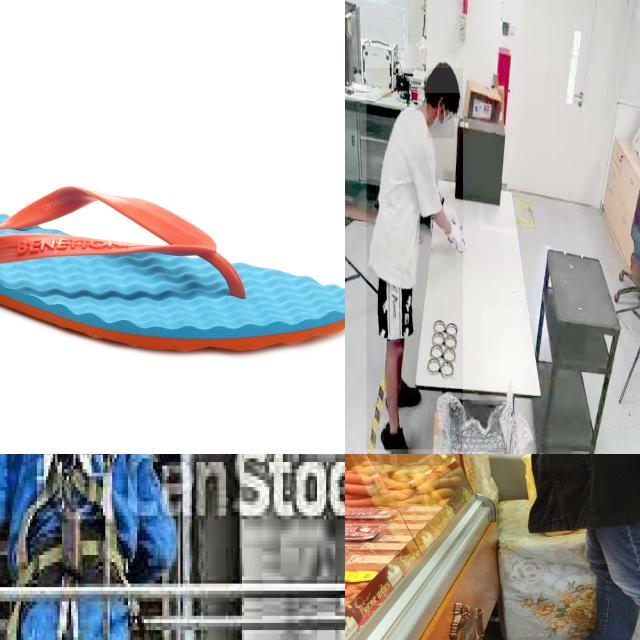Harness: (15, 454, 113, 573)
Sandals: (0, 184, 345, 354)
face_mask: (427, 98, 455, 138)
hand_glove: (442, 202, 462, 254)
head_nohelmet: (424, 59, 459, 94)
person: (366, 68, 464, 450)
shoes: (383, 372, 425, 411), (380, 416, 416, 454)
